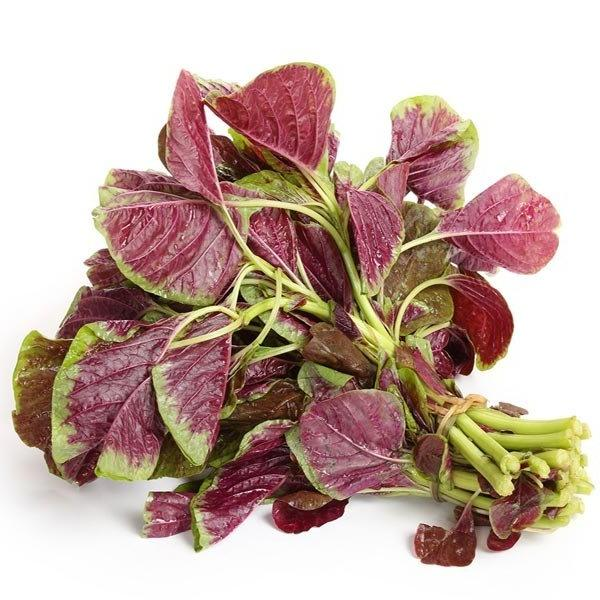amaranth: (10, 60, 594, 565), (412, 497, 478, 567)
